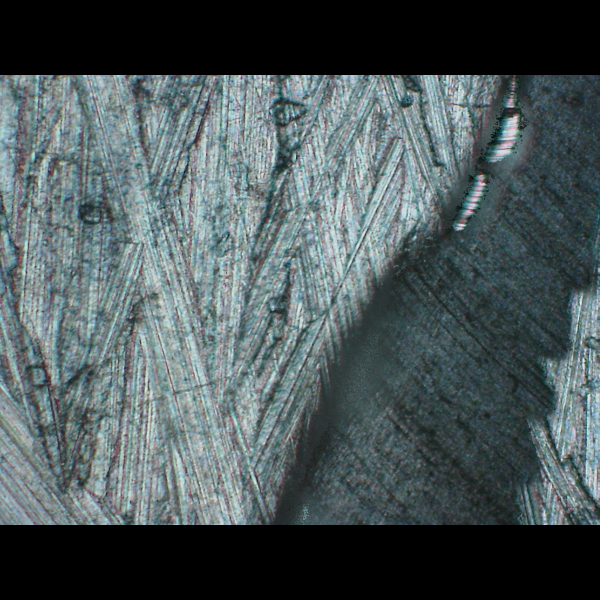d: (247, 75, 600, 524)
